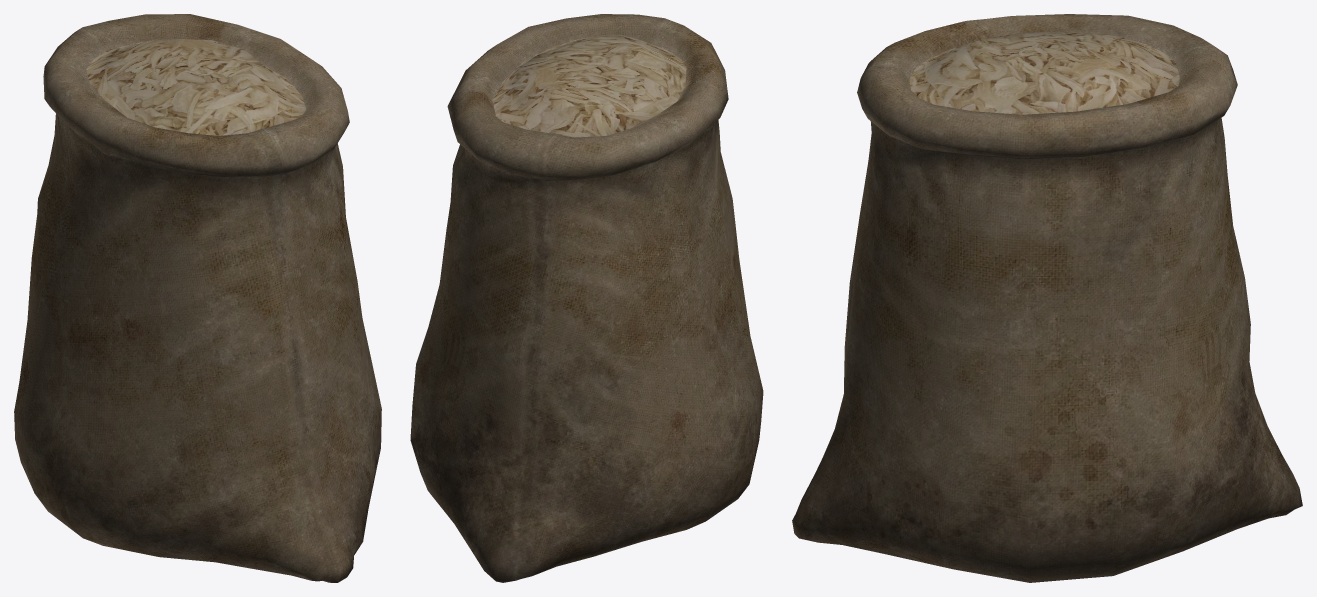
Rendered from Sack_Bag_02.glb.
3 views of the same model, side by side, from view 1: azimuth 30°, elevation 25°; view 2: azimuth 150°, elevation 25°; view 3: azimuth 270°, elevation 25° (orthographic). The views are drawn at different scales.
Parts seen in each view (by area): view 1: SM_Sack_Bag_02; view 2: SM_Sack_Bag_02; view 3: SM_Sack_Bag_02.
Part boxes in pixels (x1,y1,x2,y2): SM_Sack_Bag_02: (14,14,381,582); SM_Sack_Bag_02: (410,14,763,582); SM_Sack_Bag_02: (792,14,1302,582).
Bounding box in the file's own units: 0.5985 × 0.8304 × 0.8026.
2 materials, 2 textured.
